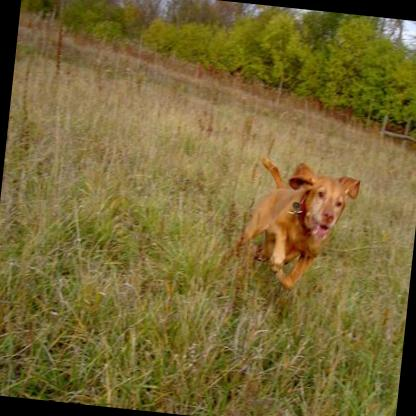vizsla: (214, 152, 362, 294)
